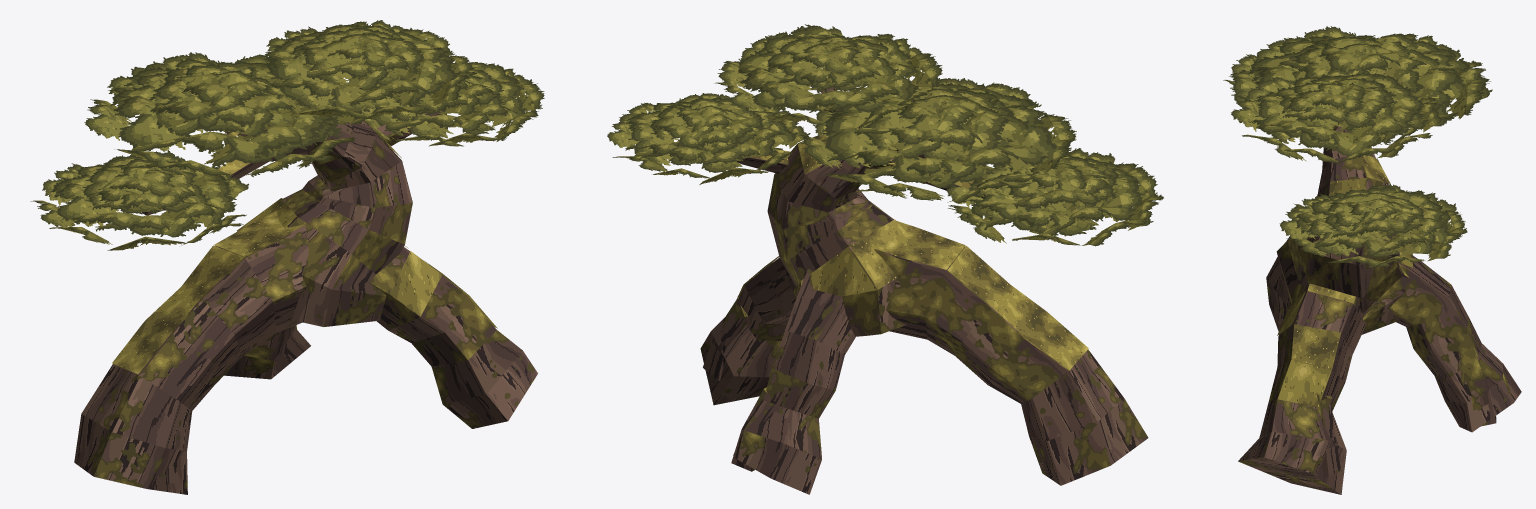
Rendered from SM_SW08_StiltAlderLow.fbx.
3 renders of one model, left to right at view 1: azimuth 30°, elevation 25°; view 2: azimuth 150°, elevation 25°; view 3: azimuth 270°, elevation 25°, orthographic. The views are drawn at different scales.
Parts seen in each view (by area): view 1: SW08b_Plants, SW08b_Bark, SW08b_BarkMossy, SW08b_Moss; view 2: SW08b_Plants, SW08b_Bark, SW08b_BarkMossy, SW08b_Moss; view 3: SW08b_Plants, SW08b_Bark, SW08b_BarkMossy, SW08b_Moss.
Part boxes in pixels (box(x1,y1,x2,y2)): SW08b_Plants: box(30, 20, 544, 250); SW08b_Bark: box(74, 88, 537, 494); SW08b_BarkMossy: box(113, 175, 496, 483); SW08b_Moss: box(112, 96, 497, 374); SW08b_Plants: box(607, 24, 1163, 246); SW08b_Bark: box(690, 86, 1148, 494); SW08b_BarkMossy: box(703, 175, 1069, 471); SW08b_Moss: box(735, 134, 1088, 392); SW08b_Plants: box(1223, 26, 1492, 267); SW08b_Bark: box(1238, 126, 1521, 494); SW08b_BarkMossy: box(1269, 233, 1496, 476); SW08b_Moss: box(1277, 124, 1412, 407).
Bounding box in the file's own units: 7.84 × 5.36 × 4.29.
